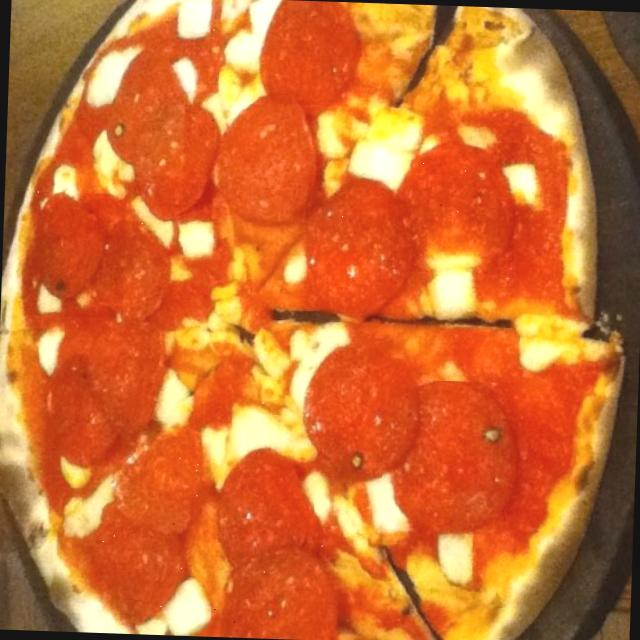cheese: (202, 392, 298, 486), (280, 298, 356, 399), (207, 0, 271, 119), (347, 98, 428, 190), (135, 572, 216, 636), (143, 358, 206, 436), (421, 246, 485, 322), (56, 465, 120, 537), (323, 494, 382, 570), (350, 471, 410, 534), (433, 528, 481, 588), (127, 196, 176, 253), (294, 470, 338, 524), (170, 215, 218, 262)
pepperoni: (379, 378, 514, 546), (37, 310, 172, 477), (386, 138, 518, 274), (294, 338, 422, 478), (211, 84, 318, 230), (302, 174, 409, 314), (210, 442, 324, 572), (66, 496, 190, 614), (14, 189, 126, 317), (210, 538, 345, 640), (88, 217, 180, 350), (92, 45, 186, 175), (251, 0, 362, 105), (132, 102, 217, 234), (114, 425, 214, 532)
pizza: (0, 0, 622, 640)
